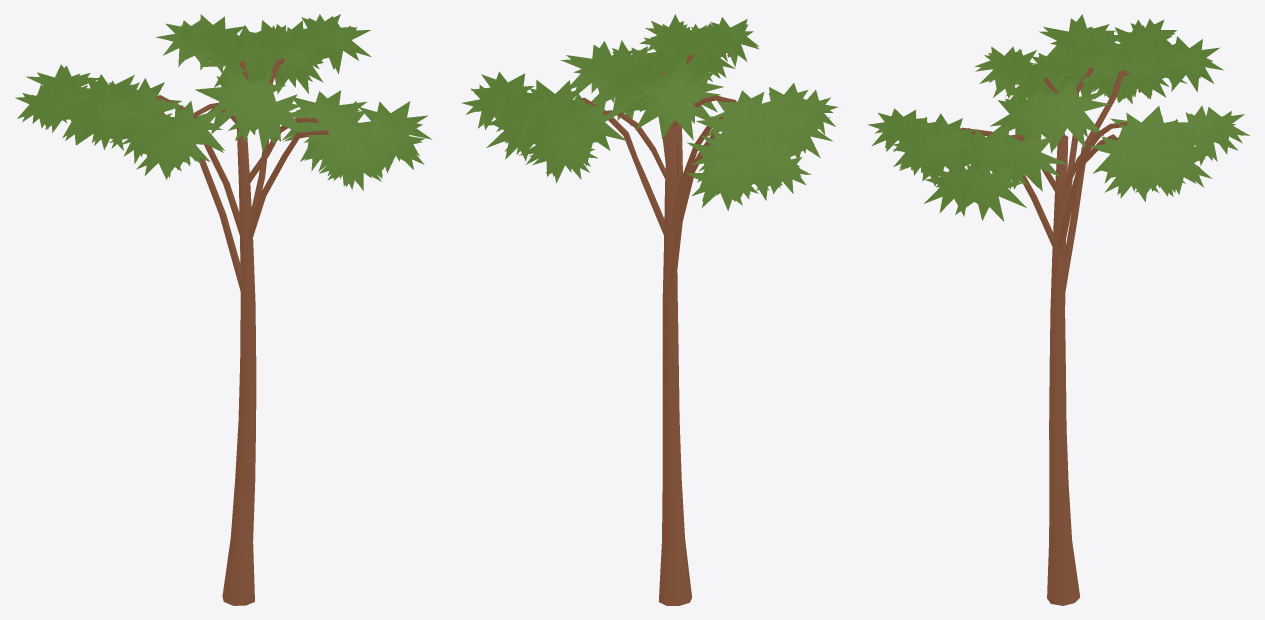
File: Blender_SlashPine_1.glb
The picture shows the model from 3 angles, left to right: view 1: azimuth 30°, elevation 25°; view 2: azimuth 150°, elevation 25°; view 3: azimuth 270°, elevation 25°; orthographic projection. The views are drawn at different scales.
Visible parts, largest first — view 1: Blender_SlashPine_1; view 2: Blender_SlashPine_1; view 3: Blender_SlashPine_1.
Part boxes in pixels (box(x1,y1,x2,y2)): Blender_SlashPine_1: box(15, 14, 431, 605); Blender_SlashPine_1: box(462, 14, 838, 605); Blender_SlashPine_1: box(867, 14, 1249, 605).
Size of the model in its own units: 14.87 by 22 by 14.78.
